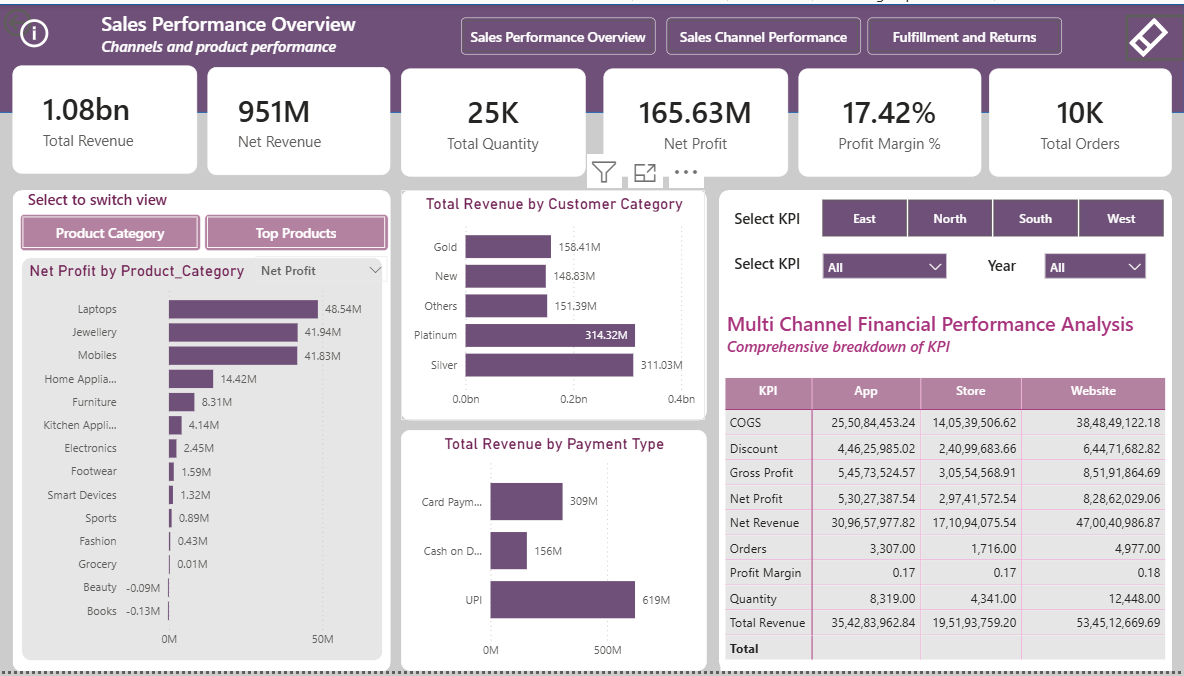

Layout of this report page (visuals, bound fields, positions):
{"tool":"powerbi","page":{"name":"Page 2","canvas":[1280,720],"ordinal":1},"visuals":[{"type":"shape","box":[0,0,1280,117.5],"z":0},{"type":"textbox","box":[105.2,0,314.1,69.6],"z":1000},{"type":"actionButton","box":[498.3,15,210,40],"z":2000},{"type":"cardVisual","fields":{"Data":["Measure table.Total Revenue"]},"box":[14.6,66.4,199.2,116.6],"z":3000},{"type":"cardVisual","fields":{"Data":["Measure table.Net Revenue"]},"box":[225.1,68,197.5,116.6],"z":4000},{"type":"cardVisual","fields":{"Data":["Measure table.Total Quantity"]},"box":[434,69.6,199.2,116.6],"z":5000},{"type":"cardVisual","fields":{"Data":["Measure table.Measure"]},"box":[652.5,69.6,199.2,116.6],"z":6000},{"type":"cardVisual","fields":{"Data":["Measure table.Profit Margin %"]},"box":[863,69.6,197.5,116.6],"z":7000},{"type":"cardVisual","fields":{"Data":["Measure table.Total Orders"]},"box":[1068.7,69.6,197.5,116.6],"z":8000},{"type":"shape","box":[15,200,408.3,520],"z":9000},{"type":"barChart","fields":{"Y":["Measure table.Net Profit"],"Category":["product_dimension_table.Product_Category"]},"box":[25,273.3,390,435],"z":10000},{"type":"slicer","fields":{"Values":["Monthly trend Parameter.Monthly trend Parameter"]},"box":[266.7,261.7,161.7,41.7],"z":11000},{"type":"actionButton","box":[23.3,226.7,195,40],"z":12000},{"type":"actionButton","box":[221.7,226.7,198.3,40],"z":13000},{"type":"actionButton","box":[0,0,100,40],"z":15000},{"type":"textbox","box":[26.7,195,200,33.3],"z":16000},{"type":"barChart","fields":{"Y":["Measure table.Total Revenue"],"Category":["orders_fact_table.Payment Type"]},"box":[433.3,460,330,260],"z":17000},{"type":"barChart","fields":{"Y":["Measure table.Total Revenue"],"Category":["customer_dimension_table.Customer Category"]},"box":[433.3,200,330,248.3],"z":18000},{"type":"shape","box":[777.2,200.2,489,519.8],"z":19000},{"type":"pivotTable","fields":{"Columns":["orders_fact_table.Sales channel"],"Values":["Measure table.Financial KPI Value"],"Rows":["Financial KPI Structure.KPI"]},"box":[778.8,397.8,487.4,322.2],"z":20000},{"type":"textbox","box":[780.5,323.8,485.8,71.2],"z":21000},{"type":"slicer","fields":{"Values":["Date Table.Date.Variation.Date Hierarchy.Year"]},"box":[1118.9,259.1,129.5,43.7],"z":22000},{"type":"slicer","fields":{"Values":["customer_dimension_table.Region"]},"box":[862.2,204,417.8,53.4],"z":23000},{"type":"textbox","box":[788.6,215.4,98.8,42.1],"z":24000},{"type":"textbox","box":[1062.2,265.6,72.9,45.3],"z":25000},{"type":"actionButton","box":[720,15,210,40],"z":26000},{"type":"actionButton","box":[938.3,15,210,40],"z":27000},{"type":"actionButton","box":[17.8,11.3,53.4,40.5],"z":28000},{"type":"actionButton","box":[1215.2,11.3,64.8,50.2],"z":29000},{"type":"slicer","fields":{"Values":["orders_fact_table.Courier_Partner"]},"box":[879.2,259.1,153.8,40.5],"z":29001},{"type":"textbox","box":[788.6,263.9,98.8,42.1],"z":29002}]}

Visuals, with their boxes in screenshot pixels (x1, y1, x2, y2), scaled from the page's 1280x720 canvas onto the 1184x676 screenshot:
shape: box=[0, 0, 1183, 110]
textbox: box=[97, 0, 388, 65]
actionButton: box=[461, 14, 655, 52]
cardVisual - Measure table.Total Revenue: box=[14, 62, 198, 172]
cardVisual - Measure table.Net Revenue: box=[208, 64, 391, 173]
cardVisual - Measure table.Total Quantity: box=[401, 65, 586, 175]
cardVisual - Measure table.Measure: box=[604, 65, 788, 175]
cardVisual - Measure table.Profit Margin %: box=[798, 65, 981, 175]
cardVisual - Measure table.Total Orders: box=[989, 65, 1171, 175]
shape: box=[14, 188, 392, 675]
barChart - Measure table.Net Profit x product_dimension_table.Product_Category: box=[23, 257, 384, 665]
slicer - Monthly trend Parameter.Monthly trend Parameter: box=[247, 246, 396, 285]
actionButton: box=[22, 213, 202, 250]
actionButton: box=[205, 213, 388, 250]
actionButton: box=[0, 0, 92, 38]
textbox: box=[25, 183, 210, 214]
barChart - Measure table.Total Revenue x orders_fact_table.Payment Type: box=[401, 432, 706, 675]
barChart - Measure table.Total Revenue x customer_dimension_table.Customer Category: box=[401, 188, 706, 421]
shape: box=[719, 188, 1171, 675]
pivotTable - orders_fact_table.Sales channel x Measure table.Financial KPI Value: box=[720, 373, 1171, 675]
textbox: box=[722, 304, 1171, 371]
slicer - Date Table.Date.Variation.Date Hierarchy.Year: box=[1035, 243, 1155, 284]
slicer - customer_dimension_table.Region: box=[798, 192, 1183, 242]
textbox: box=[729, 202, 821, 242]
textbox: box=[983, 249, 1050, 292]
actionButton: box=[666, 14, 860, 52]
actionButton: box=[868, 14, 1062, 52]
actionButton: box=[16, 11, 66, 49]
actionButton: box=[1124, 11, 1183, 58]
slicer - orders_fact_table.Courier_Partner: box=[813, 243, 956, 281]
textbox: box=[729, 248, 821, 287]
